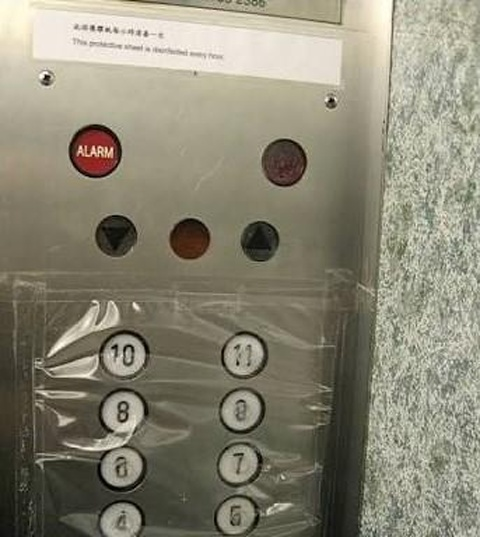10: (97, 329, 151, 382)
11: (219, 330, 271, 380)
4: (95, 497, 147, 537)
5: (213, 493, 263, 537)
7: (216, 441, 265, 489)
8: (95, 387, 149, 437)
blur: (261, 137, 310, 187), (217, 385, 266, 435), (98, 446, 147, 493)
down: (92, 211, 140, 259)
empty: (168, 216, 213, 260)
text_ALARM: (67, 122, 124, 179)
up: (239, 218, 281, 264)
